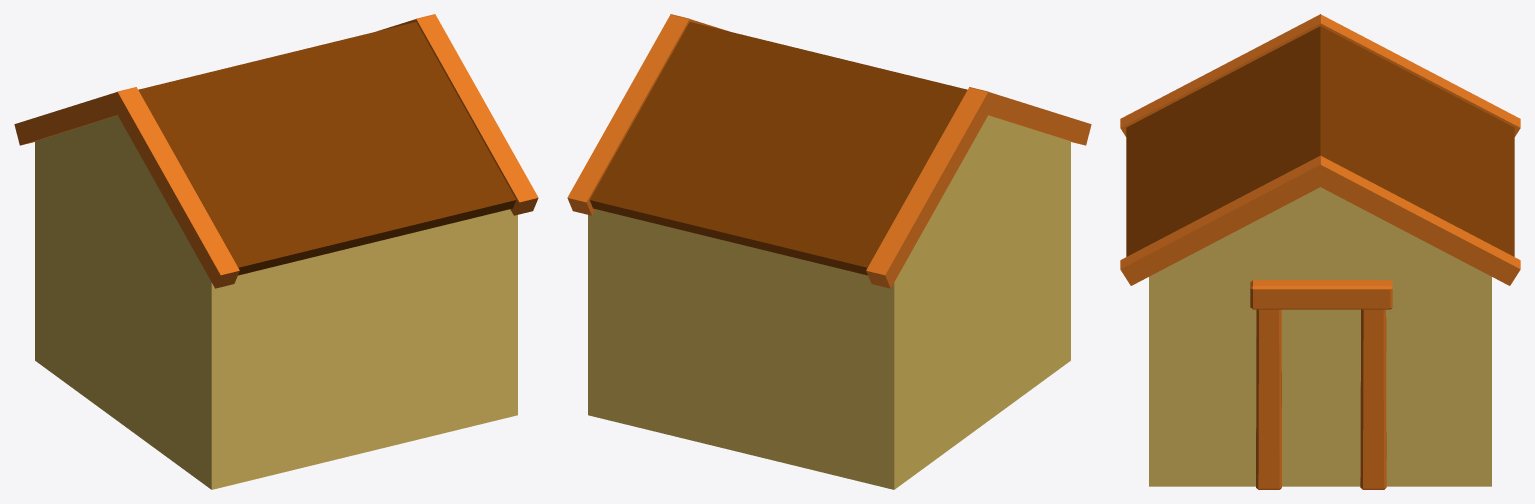
The model's file is testhome06.fbx.
The picture shows the model from 3 angles, left to right: view 1: azimuth 30°, elevation 25°; view 2: azimuth 150°, elevation 25°; view 3: azimuth 270°, elevation 25°; orthographic projection. The views are drawn at different scales.
Visible parts, largest first — view 1: Cube, Cube.004, Cube.003; view 2: Cube, Cube.004, Cube.003; view 3: Cube, Cube.004, Cube.003, Cube.001, Cube.002.
Boxes of the visible parts, x1,y1,x2,y2 form: Cube: (35,115,517,489); Cube.004: (138,22,516,275); Cube.003: (14,14,538,288); Cube: (588,115,1070,489); Cube.004: (589,22,967,275); Cube.003: (567,14,1091,288); Cube: (1149,187,1491,486); Cube.004: (1126,26,1514,256); Cube.003: (1120,14,1520,285); Cube.001: (1256,309,1386,489); Cube.002: (1250,280,1392,309).
Size of the model in its own units: 742 by 726 by 811.
